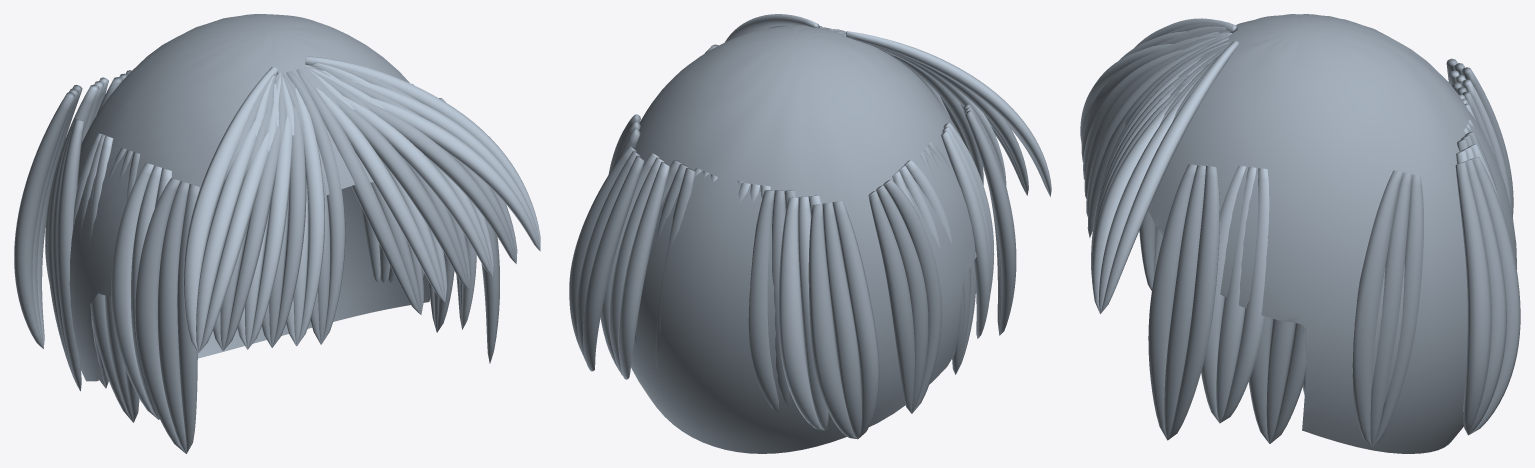
3 views of the same model, side by side, from view 1: azimuth 30°, elevation 25°; view 2: azimuth 150°, elevation 25°; view 3: azimuth 270°, elevation 25° (orthographic). The views are drawn at different scales.
Visible parts, largest first — view 1: CrownHair_male_ref16, SideHair_-1_0_Strand2, FrontHair_CenterPart_-1_5_Strand2, SideHair_-1_0_Strand1, BackHair_00_Strand0, SideHair_-1_1_Strand2, FrontHair_CenterPart_1_0_Strand2, SideHair_-1_4_Strand0, FrontHair_CenterPart_-1_5_Strand1, FrontHair_CenterPart_-1_0_Strand0, FrontHair_CenterPart_1_1_Strand2, FrontHair_CenterPart_-1_1_Strand0 (+42 smaller); view 2: CrownHair_male_ref16, BackHair_00_Strand2, BackHair_01_Strand2, BackHair_00_Strand1, BackHair_00_Strand0, SideHair_-1_4_Strand2, BackHair_02_Strand2, BackHair_07_Strand0, BackHair_08_Strand0, SideHair_-1_0_Strand2, FrontHair_CenterPart_-1_5_Strand2, SideHair_-1_4_Strand0 (+21 smaller); view 3: CrownHair_male_ref16, BackHair_08_Strand2, SideHair_1_4_Strand2, SideHair_1_0_Strand0, SideHair_1_0_Strand2, SideHair_1_0_Strand1, FrontHair_CenterPart_1_5_Strand0, SideHair_1_4_Strand1, SideHair_1_4_Strand0, SideHair_1_1_Strand0, BackHair_08_Strand1, BackHair_08_Strand0 (+22 smaller).
Part boxes in pixels (x1,y1,x2,y2): CrownHair_male_ref16: [69, 14, 429, 381]; SideHair_-1_0_Strand2: [135, 178, 185, 453]; FrontHair_CenterPart_-1_5_Strand2: [183, 67, 278, 352]; SideHair_-1_0_Strand1: [157, 181, 189, 453]; BackHair_00_Strand0: [14, 92, 75, 348]; SideHair_-1_1_Strand2: [111, 162, 158, 419]; FrontHair_CenterPart_1_0_Strand2: [296, 68, 420, 314]; SideHair_-1_4_Strand0: [57, 119, 84, 391]; FrontHair_CenterPart_-1_5_Strand1: [196, 72, 280, 352]; FrontHair_CenterPart_-1_0_Strand0: [286, 71, 345, 344]; FrontHair_CenterPart_1_1_Strand2: [316, 88, 444, 302]; FrontHair_CenterPart_-1_1_Strand0: [295, 88, 324, 345]; CrownHair_male_ref16: [631, 25, 976, 453]; BackHair_00_Strand2: [808, 203, 857, 439]; BackHair_01_Strand2: [778, 197, 824, 430]; BackHair_00_Strand1: [822, 202, 861, 438]; BackHair_00_Strand0: [832, 200, 879, 438]; SideHair_-1_4_Strand2: [868, 190, 914, 413]; BackHair_02_Strand2: [748, 190, 779, 412]; BackHair_07_Strand0: [618, 162, 669, 379]; BackHair_08_Strand0: [582, 156, 644, 371]; SideHair_-1_0_Strand2: [964, 110, 1016, 335]; FrontHair_CenterPart_-1_5_Strand2: [845, 31, 1051, 196]; SideHair_-1_4_Strand0: [883, 179, 942, 413]; CrownHair_male_ref16: [1125, 14, 1517, 453]; BackHair_08_Strand2: [1455, 162, 1491, 434]; SideHair_1_4_Strand2: [1352, 170, 1402, 447]; SideHair_1_0_Strand0: [1167, 166, 1219, 440]; SideHair_1_0_Strand2: [1148, 164, 1197, 439]; SideHair_1_0_Strand1: [1164, 165, 1205, 439]; FrontHair_CenterPart_1_5_Strand0: [1100, 40, 1239, 313]; SideHair_1_4_Strand1: [1370, 172, 1411, 447]; SideHair_1_4_Strand0: [1372, 174, 1423, 447]; SideHair_1_1_Strand0: [1220, 168, 1269, 423]; BackHair_08_Strand1: [1463, 159, 1506, 434]; BackHair_08_Strand0: [1469, 156, 1520, 434].
Bounding box in the file's own units: 0.7251 × 0.7341 × 0.7433.
